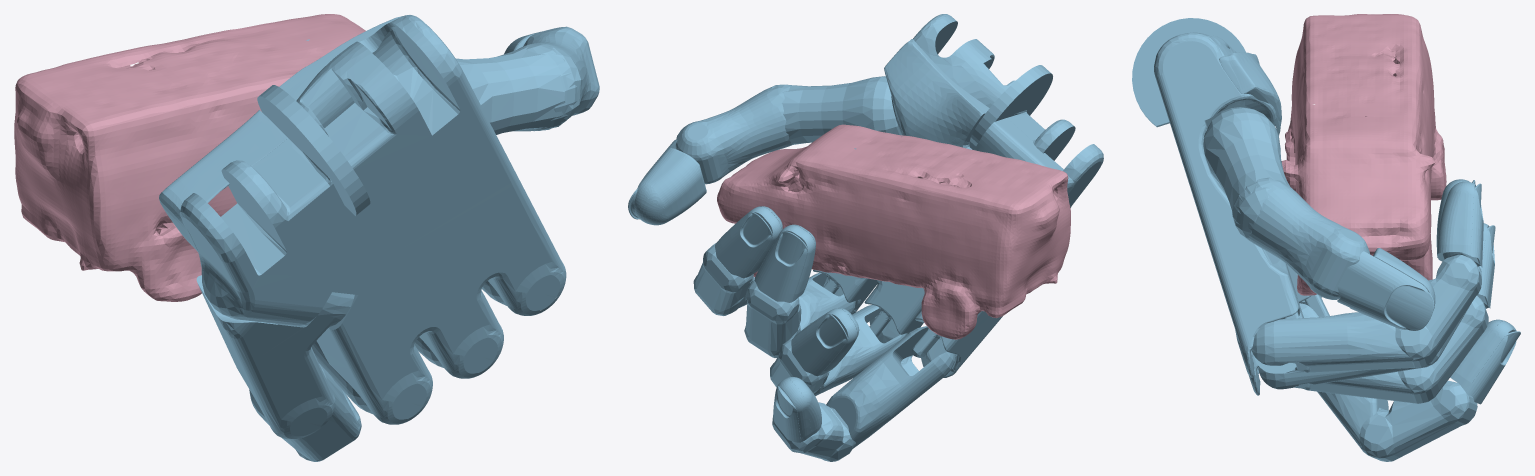
The picture shows the model from 3 angles, left to right: view 1: azimuth 30°, elevation 25°; view 2: azimuth 150°, elevation 25°; view 3: azimuth 270°, elevation 25°; orthographic projection. The views are drawn at different scales.
Parts seen in each view (by area): view 1: hand, world; view 2: hand, world; view 3: hand, world.
Boxes of the visible parts, box(x1,y1,x2,y2) form: hand: box(159, 15, 599, 461); world: box(14, 14, 365, 301); hand: box(628, 14, 1103, 461); world: box(717, 124, 1070, 339); hand: box(1132, 18, 1520, 461); world: box(1281, 14, 1446, 295).
Size of the model in its own units: 0.1626 by 0.1497 by 0.1264.
